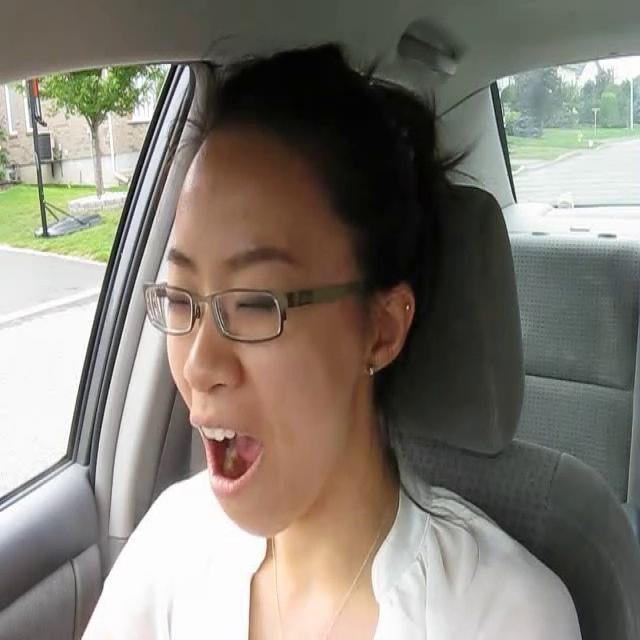close: (225, 238, 295, 321), (154, 240, 200, 315)
